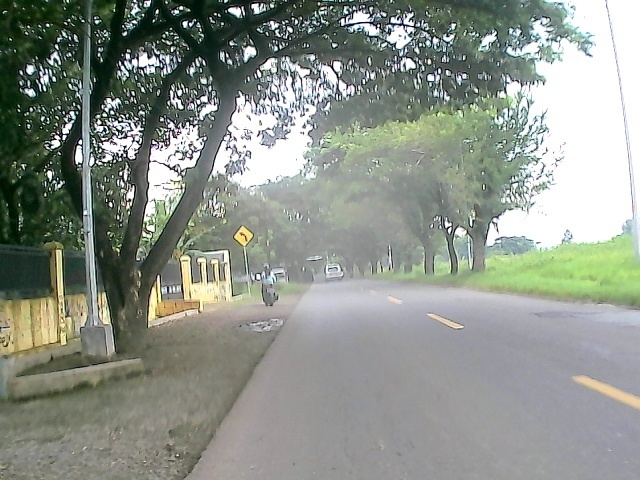Tikungan ke kiri: (233, 224, 257, 248)
